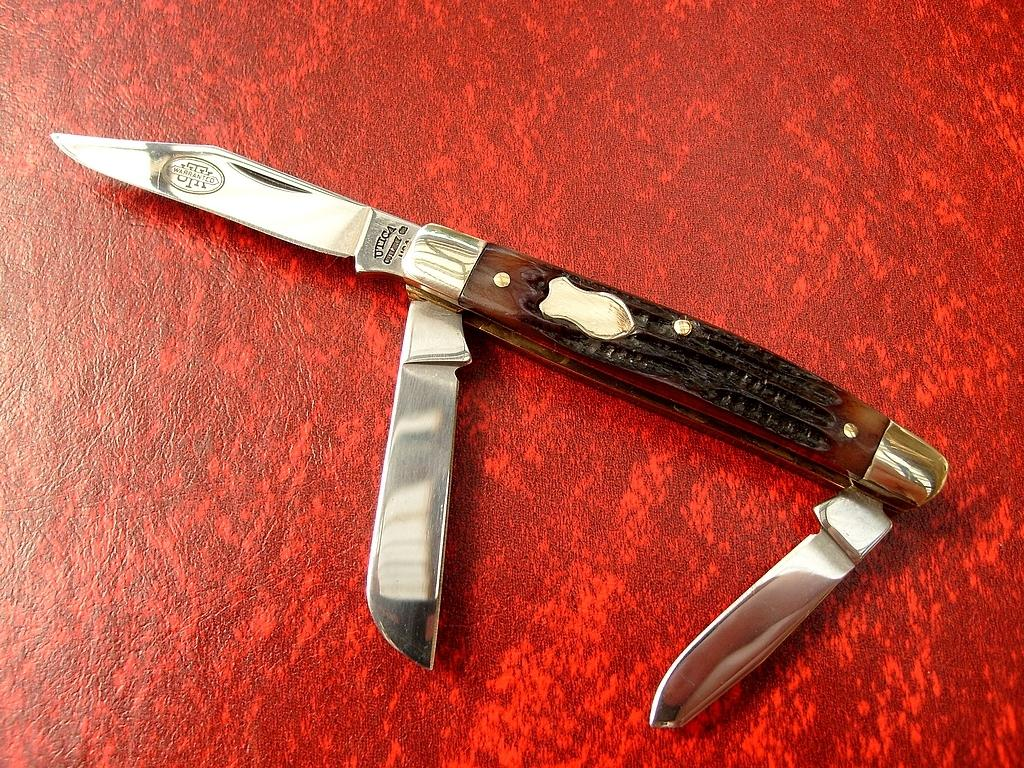Knife: (49, 129, 950, 730)
